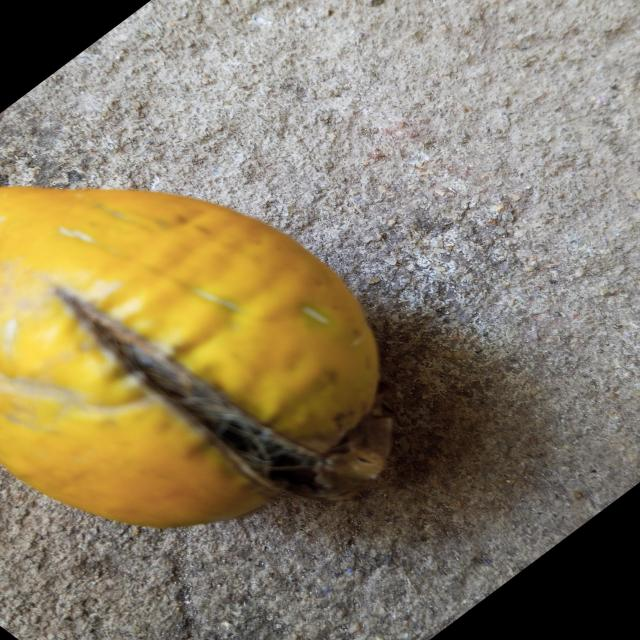damaged: (0, 187, 393, 527)
